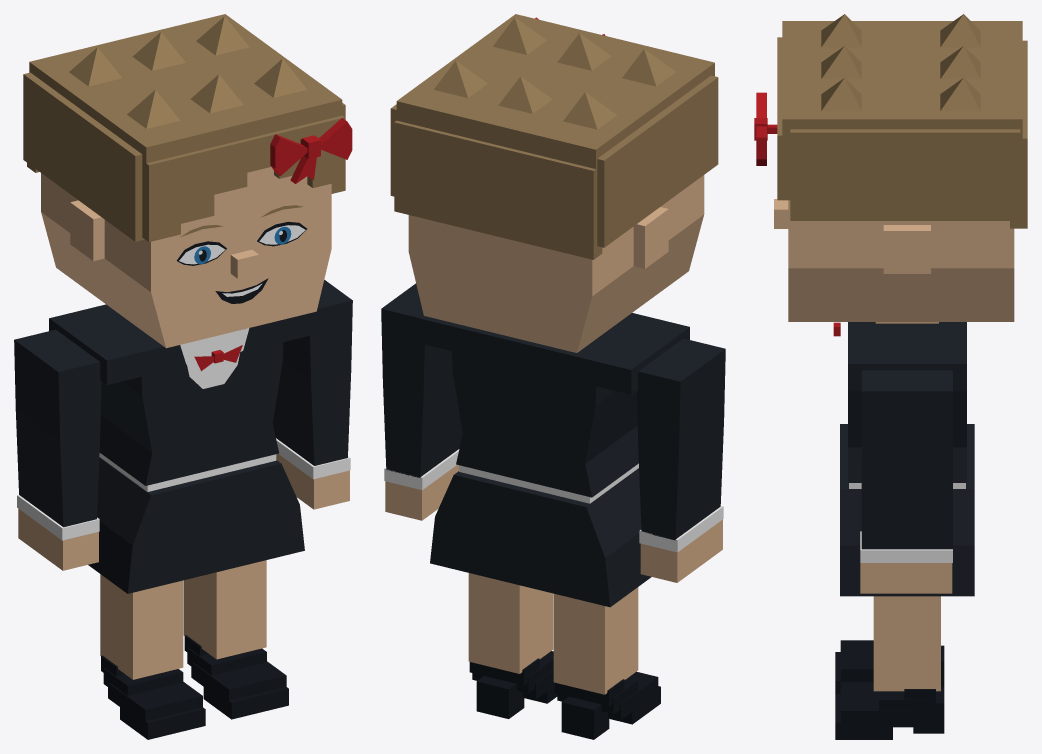
The model's file is female_spiky.glb.
3 renders of one model, left to right at view 1: azimuth 30°, elevation 25°; view 2: azimuth 150°, elevation 25°; view 3: azimuth 270°, elevation 25°, orthographic. The views are drawn at different scales.
Visible parts, largest first — view 1: char_torso_visual, char_hair_visual, char_head_visual, char_arm_negx_visual, char_leg_negx_visual, char_leg_posx_visual, char_arm_posx_visual, char_bow_visual, char_hand_negx_visual, char_hand_posx_visual, char_eye_negx_visual, char_eye_posx_visual (+1 smaller); view 2: char_hair_visual, char_torso_visual, char_head_visual, char_arm_negx_visual, char_arm_posx_visual, char_leg_negx_visual, char_leg_posx_visual, char_hand_negx_visual, char_hand_posx_visual; view 3: char_hair_visual, char_head_visual, char_arm_posx_visual, char_torso_visual, char_leg_posx_visual, char_hand_posx_visual, char_leg_negx_visual, char_bow_visual.
Boxes of the visible parts, box(x1,y1,x2,y2) form: char_torso_visual: box(49, 304, 317, 593); char_hair_visual: box(23, 14, 345, 241); char_head_visual: box(41, 167, 331, 348); char_arm_negx_visual: box(14, 329, 101, 540); char_leg_negx_visual: box(100, 574, 205, 739); char_leg_posx_visual: box(183, 560, 288, 719); char_arm_posx_visual: box(272, 280, 352, 479); char_bow_visual: box(270, 118, 352, 183); char_hand_negx_visual: box(18, 508, 98, 570); char_hand_posx_visual: box(276, 454, 349, 509); char_eye_negx_visual: box(176, 241, 226, 265); char_eye_posx_visual: box(257, 221, 306, 246); char_hair_visual: box(390, 14, 718, 259); char_torso_visual: box(417, 313, 689, 607); char_head_visual: box(408, 175, 704, 352); char_arm_negx_visual: box(637, 338, 725, 552); char_arm_posx_visual: box(381, 283, 462, 490); char_leg_negx_visual: box(553, 587, 660, 739); char_leg_posx_visual: box(468, 573, 557, 718); char_hand_negx_visual: box(640, 519, 722, 582); char_hand_posx_visual: box(385, 464, 458, 520); char_hair_visual: box(777, 14, 1027, 228); char_head_visual: box(774, 199, 1014, 323); char_arm_posx_visual: box(860, 370, 952, 562); char_torso_visual: box(833, 322, 974, 596); char_leg_posx_visual: box(835, 596, 944, 739); char_hand_posx_visual: box(860, 563, 952, 593); char_leg_negx_visual: box(835, 640, 944, 693); char_bow_visual: box(754, 92, 777, 165).
Size of the model in its own units: 0.88 by 1.84 by 0.6895.
